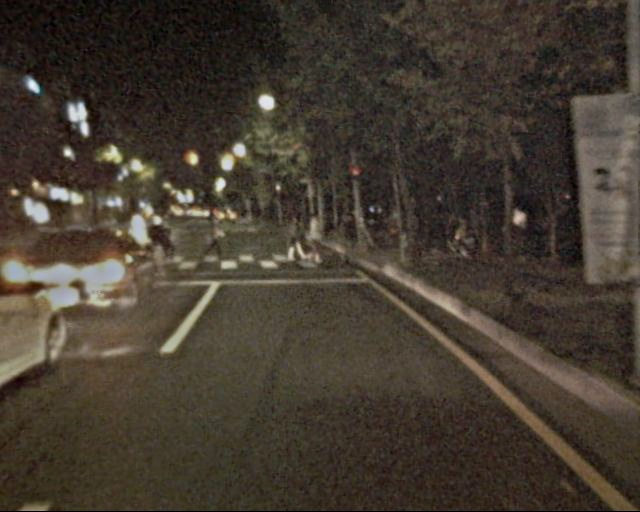person: (146, 205, 174, 272), (199, 208, 227, 272), (282, 213, 307, 268), (400, 209, 423, 262), (299, 212, 321, 266), (460, 205, 483, 255), (340, 212, 360, 268)
